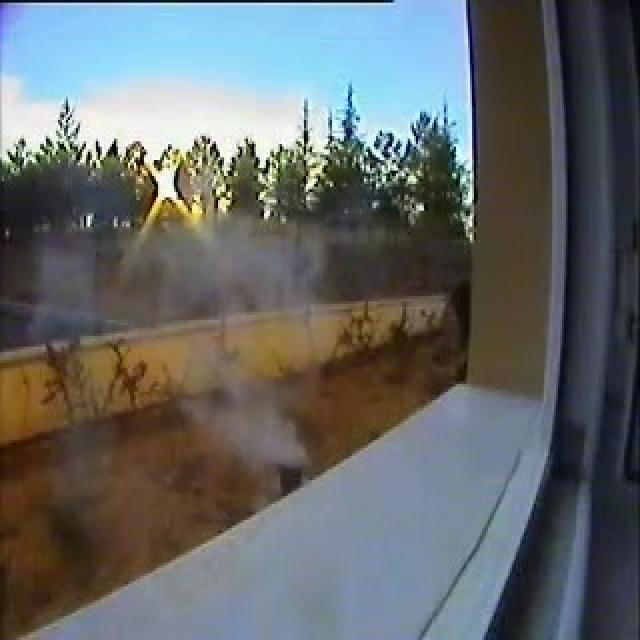smoke: (186, 371, 310, 462)
